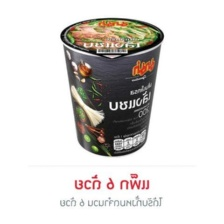paper_cup: (56, 12, 169, 160)
